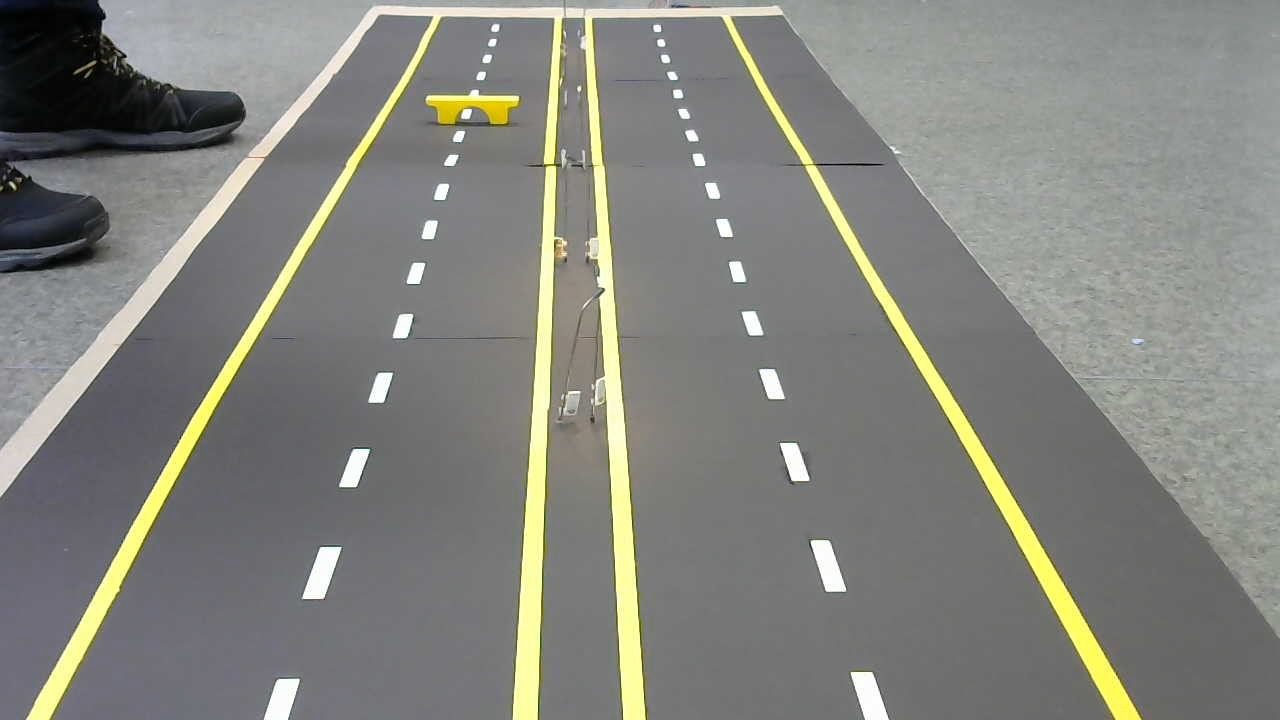emergency_situation: (417, 89, 525, 131)
